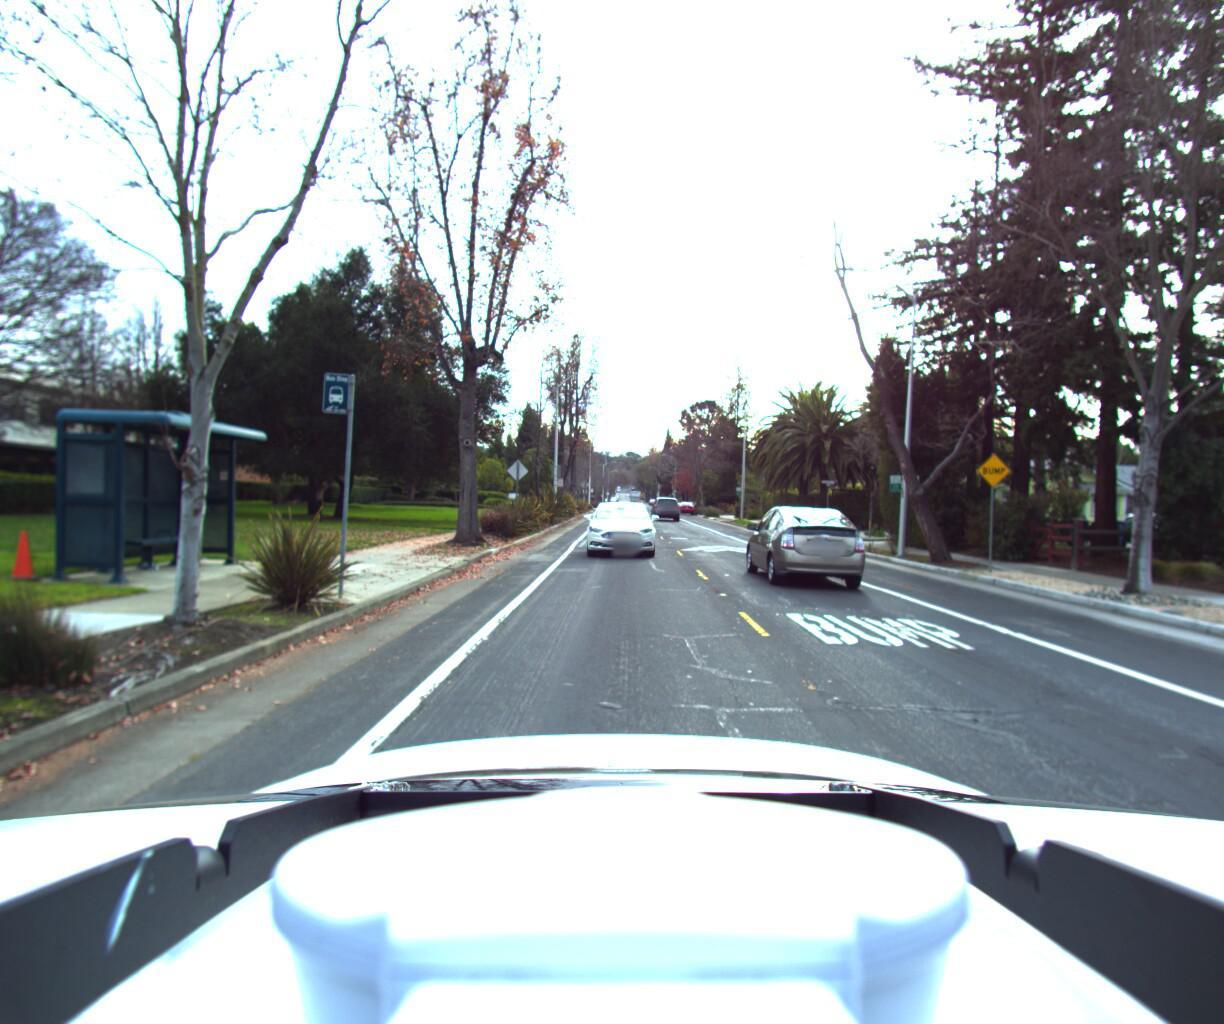car: (740, 504, 858, 586), (584, 501, 659, 562), (651, 495, 680, 522)
